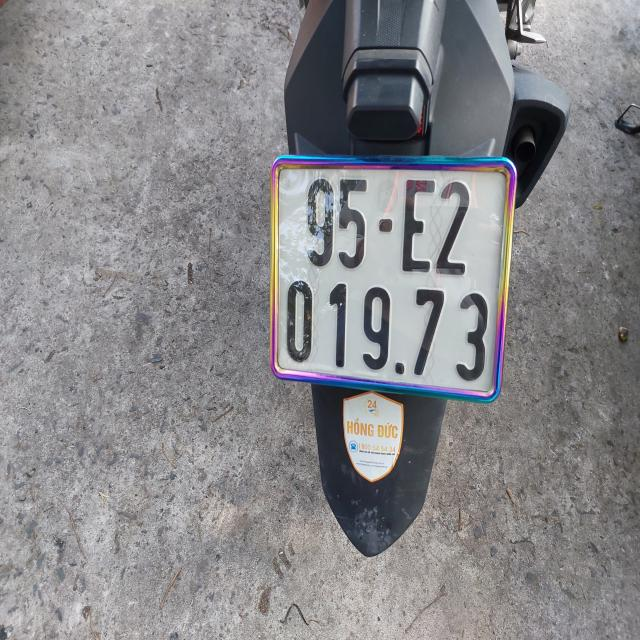0: (286, 272, 314, 360)
1: (326, 281, 350, 374)
2: (437, 182, 473, 284)
3: (456, 290, 491, 391)
5: (336, 178, 371, 274)
7: (414, 284, 444, 378)
9: (363, 284, 393, 367), (308, 174, 334, 266)
E: (404, 176, 434, 276)
